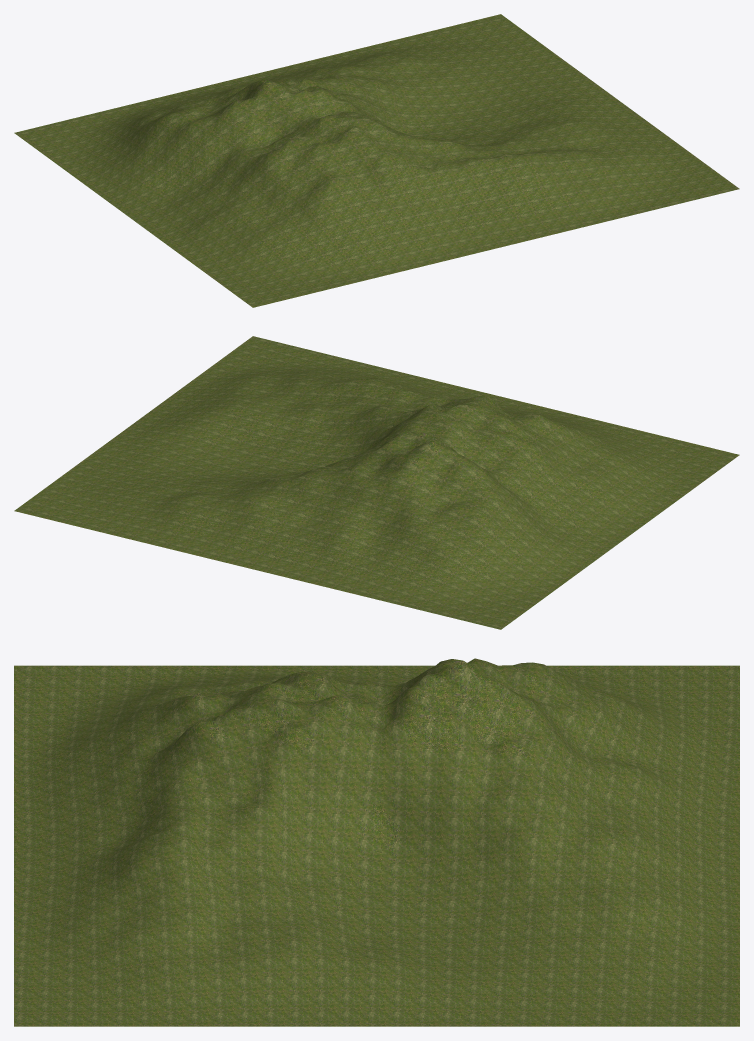
File: LandScape.fbx
3 views of the same model, one above another, from view 1: azimuth 30°, elevation 25°; view 2: azimuth 150°, elevation 25°; view 3: azimuth 270°, elevation 25° (orthographic). The views are drawn at different scales.
Visible parts, largest first — view 1: Landscape; view 2: Landscape; view 3: Landscape.
Boxes of the visible parts, x1,y1,x2,y2 form: Landscape: (14,14,739,307); Landscape: (14,336,739,629); Landscape: (14,658,739,1026).
Bounding box in the file's own units: 3015 × 472 × 2563.
